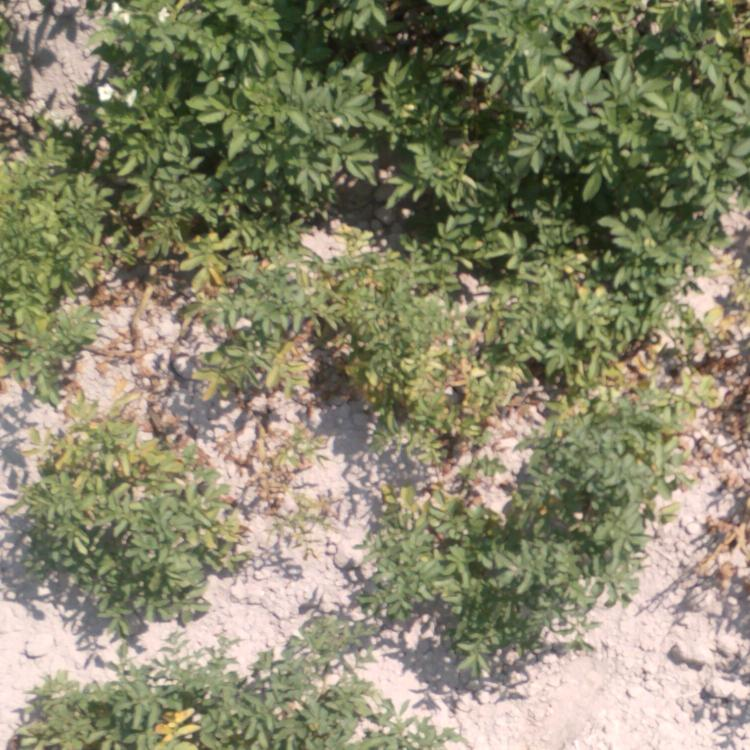healthy: (481, 5, 731, 192), (93, 3, 277, 190), (303, 15, 465, 178), (369, 512, 553, 646), (457, 202, 683, 294), (6, 144, 73, 345), (560, 429, 655, 564)
stressed: (78, 197, 307, 394), (27, 404, 214, 619), (16, 656, 430, 746), (302, 353, 503, 481), (506, 303, 726, 406), (320, 236, 448, 341)
